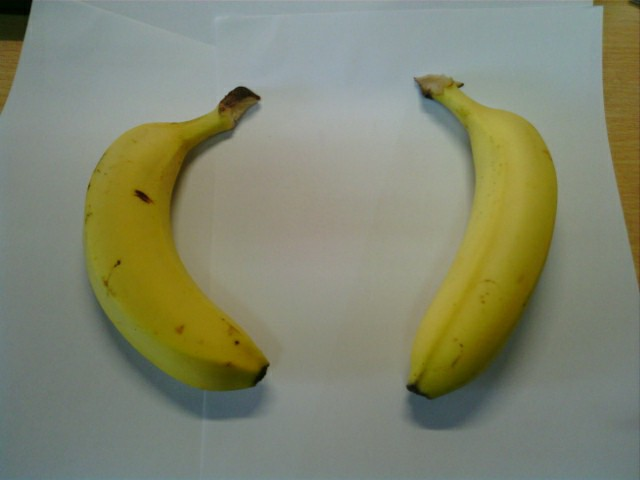fresh_banana: (407, 76, 559, 399)
normal_banana: (84, 95, 274, 385)
